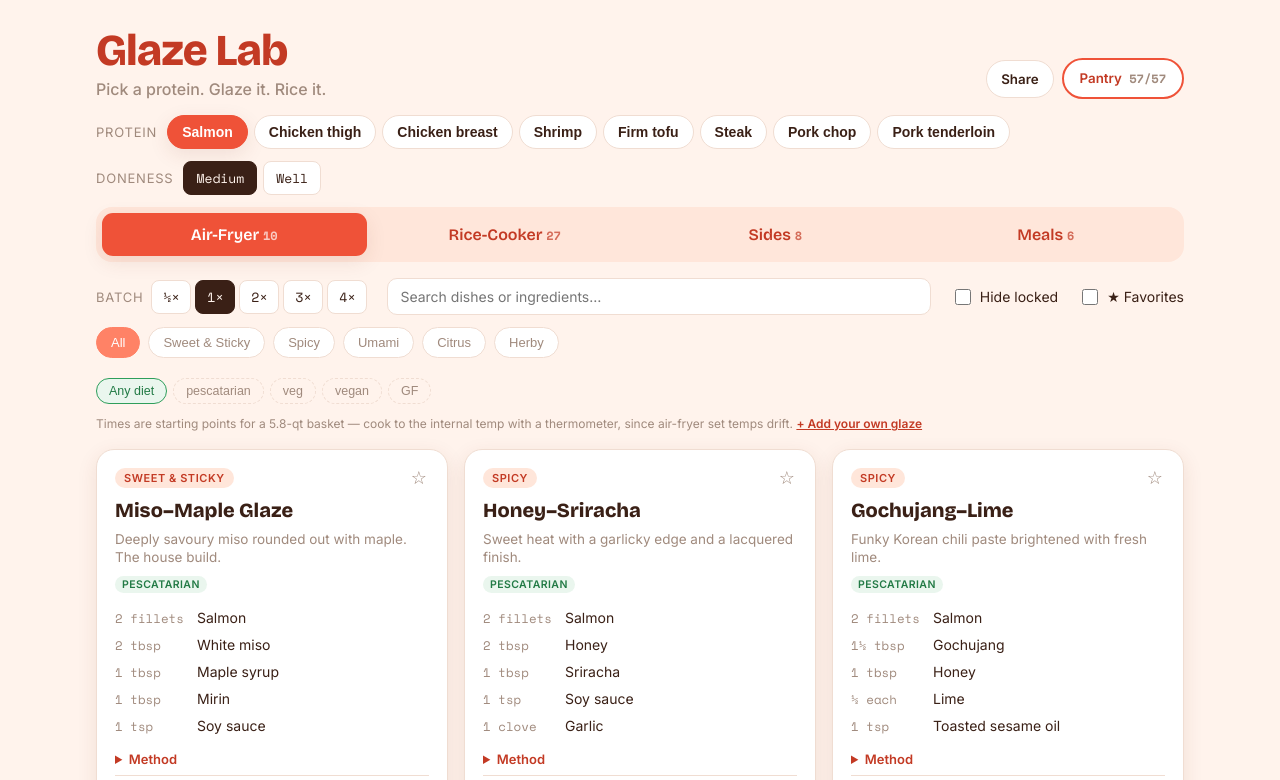
Test: Glaze Lab app › shows coordinated meal plans with an ordered timeline in Meals mode
Click the tab "Meals 6" at (1046, 234), box 914,213 -> 1178,256
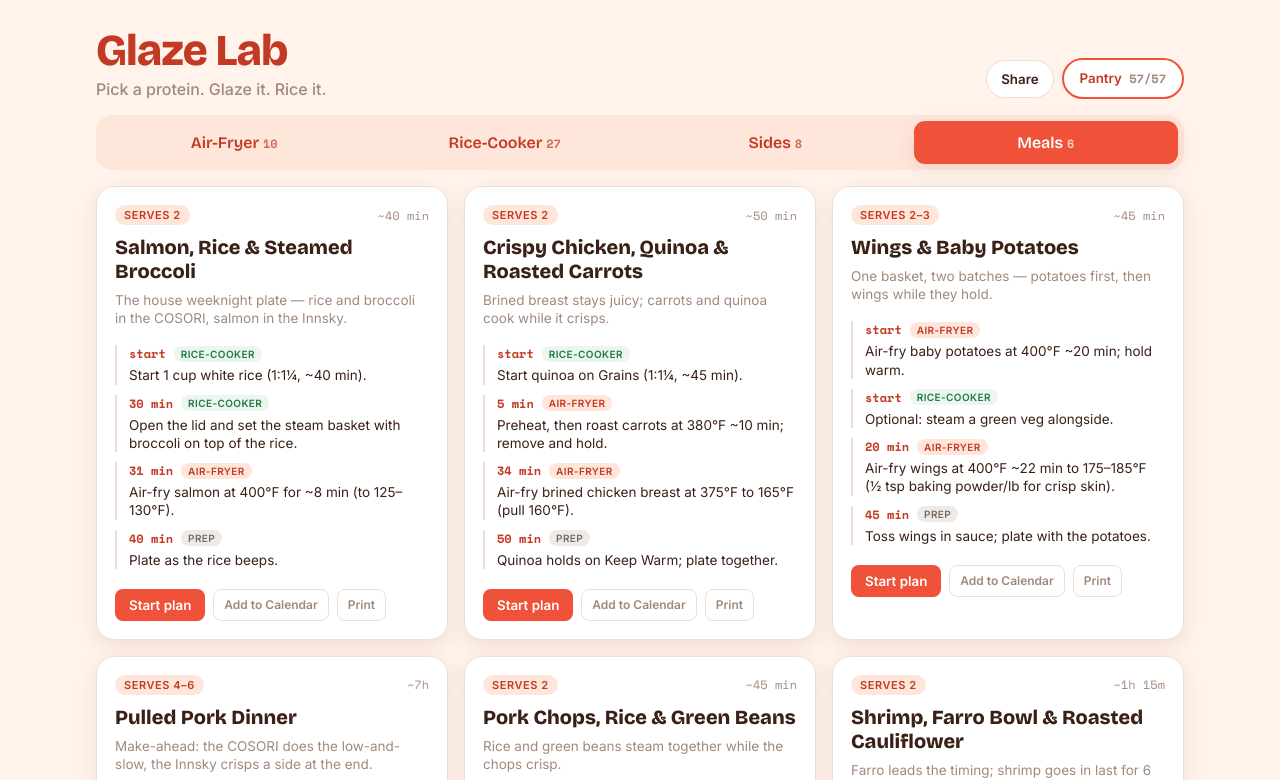
Result: the text "Salmon, Rice & Steamed Broccoli" shows "start" at 129,345 -> 166,362
Result: the text "Salmon, Rice & Steamed Broccoli" shows "Air-Fryer" at 188,465 -> 245,477
Result: the text "Salmon, Rice & Steamed Broccoli" shows "Rice-Cooker" at 181,348 -> 255,360
